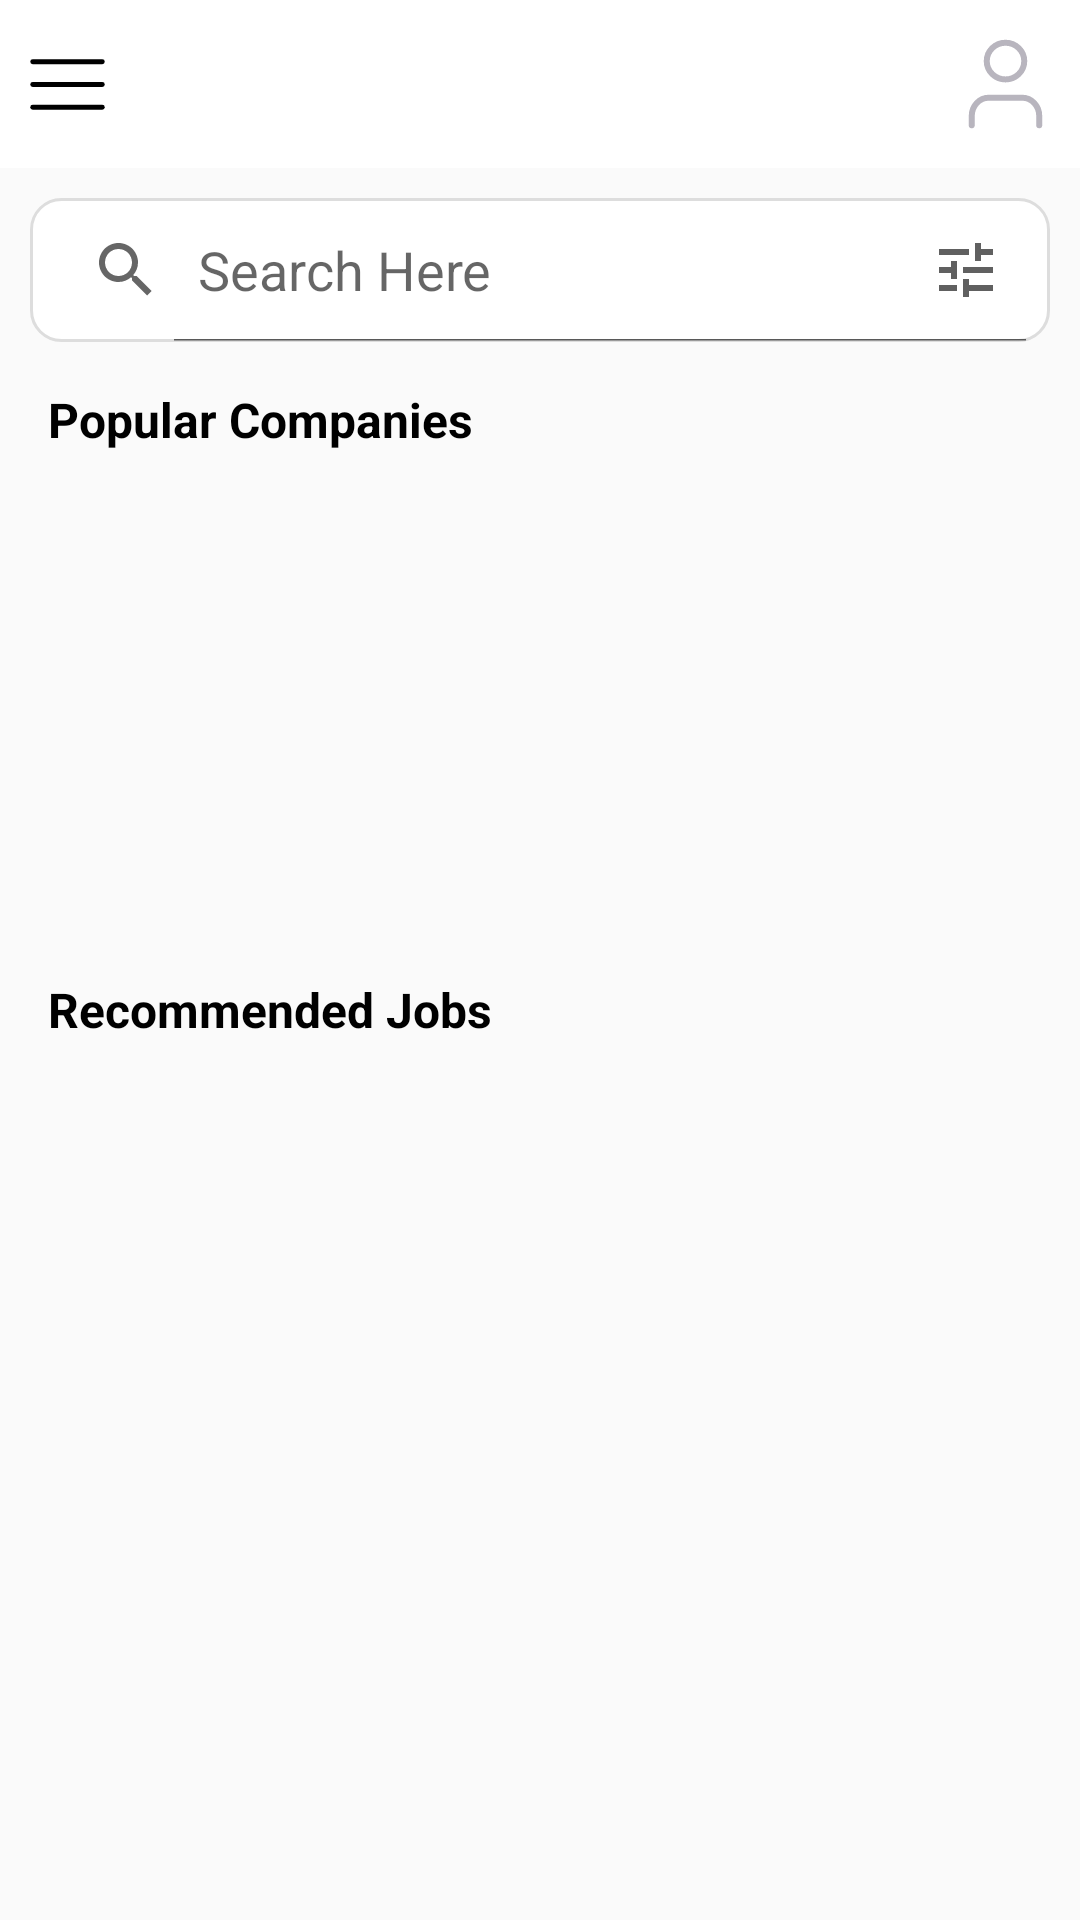

Named icons in this screenshot (1080px x 1920px) and their centers, point (x, y):
Filter Icon: point (966, 270)
Menu: point (67, 84)
profile: point (1005, 84)
